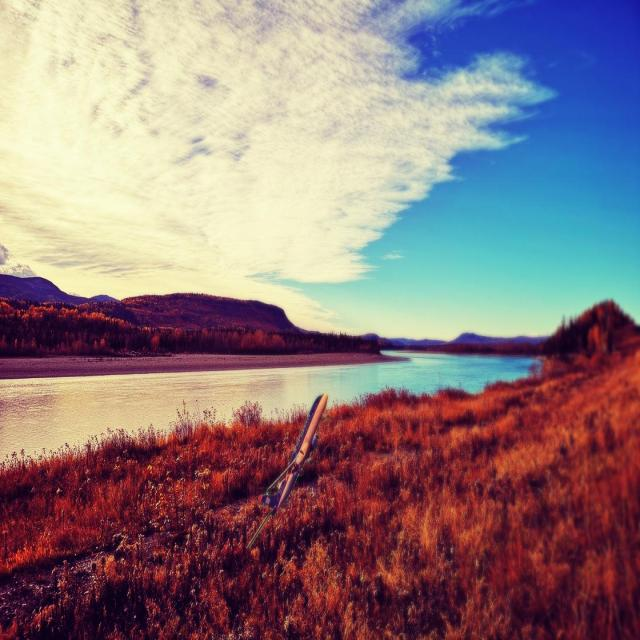airplane: (245, 392, 328, 550)
